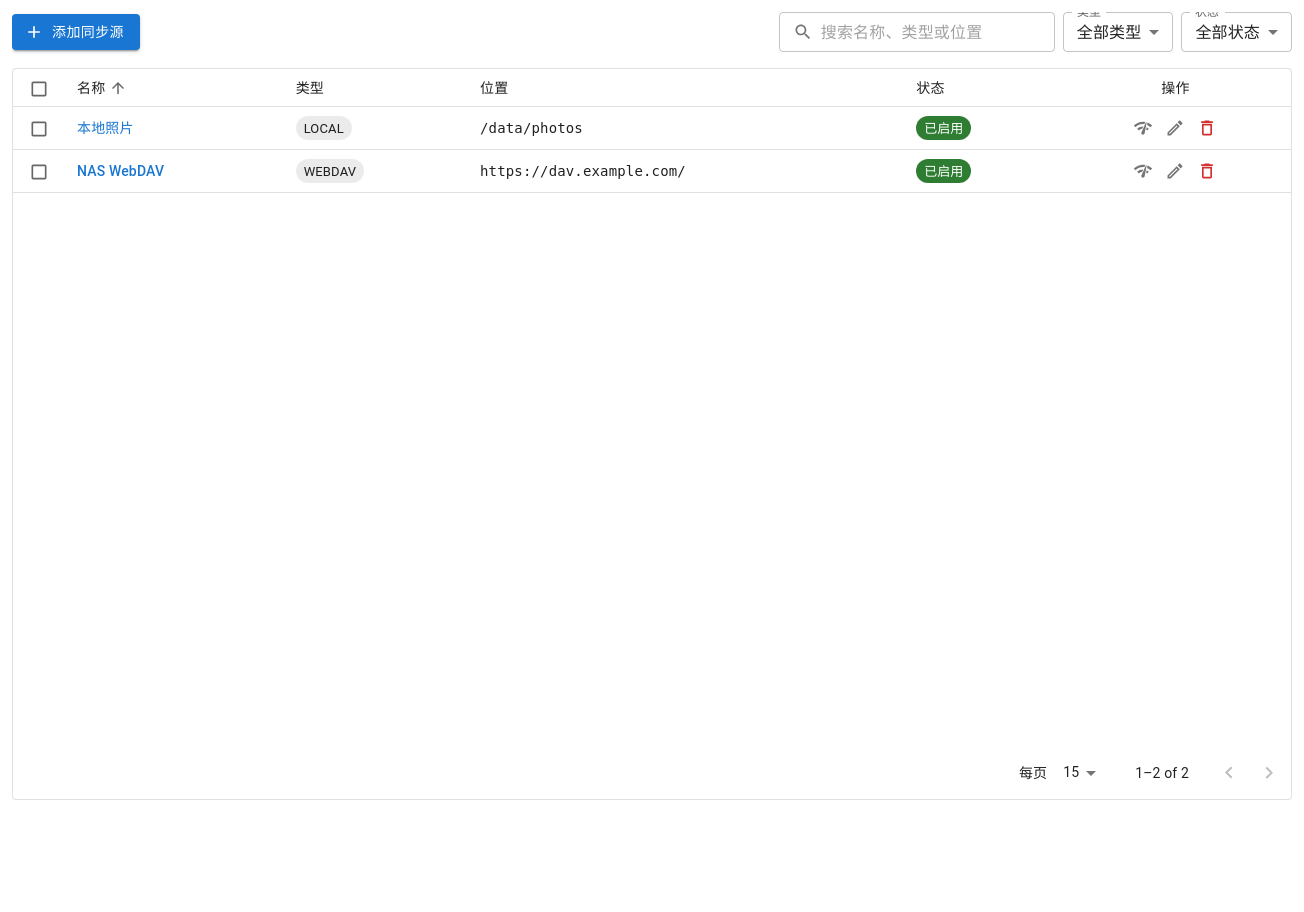
Scenario: 本地源显示 LOCAL 与原生路径，并可筛选和直达源端文件树
Expected: the text "LOCAL" is shown, x1=304 y1=120 x2=344 y2=136
Expected: the text "/data/photos" is shown, x1=464 y1=107 x2=900 y2=150
Press the mouse on the dropdown labelled "类型" at (1109, 32), box x1=1077 y1=22 x2=1141 y2=42
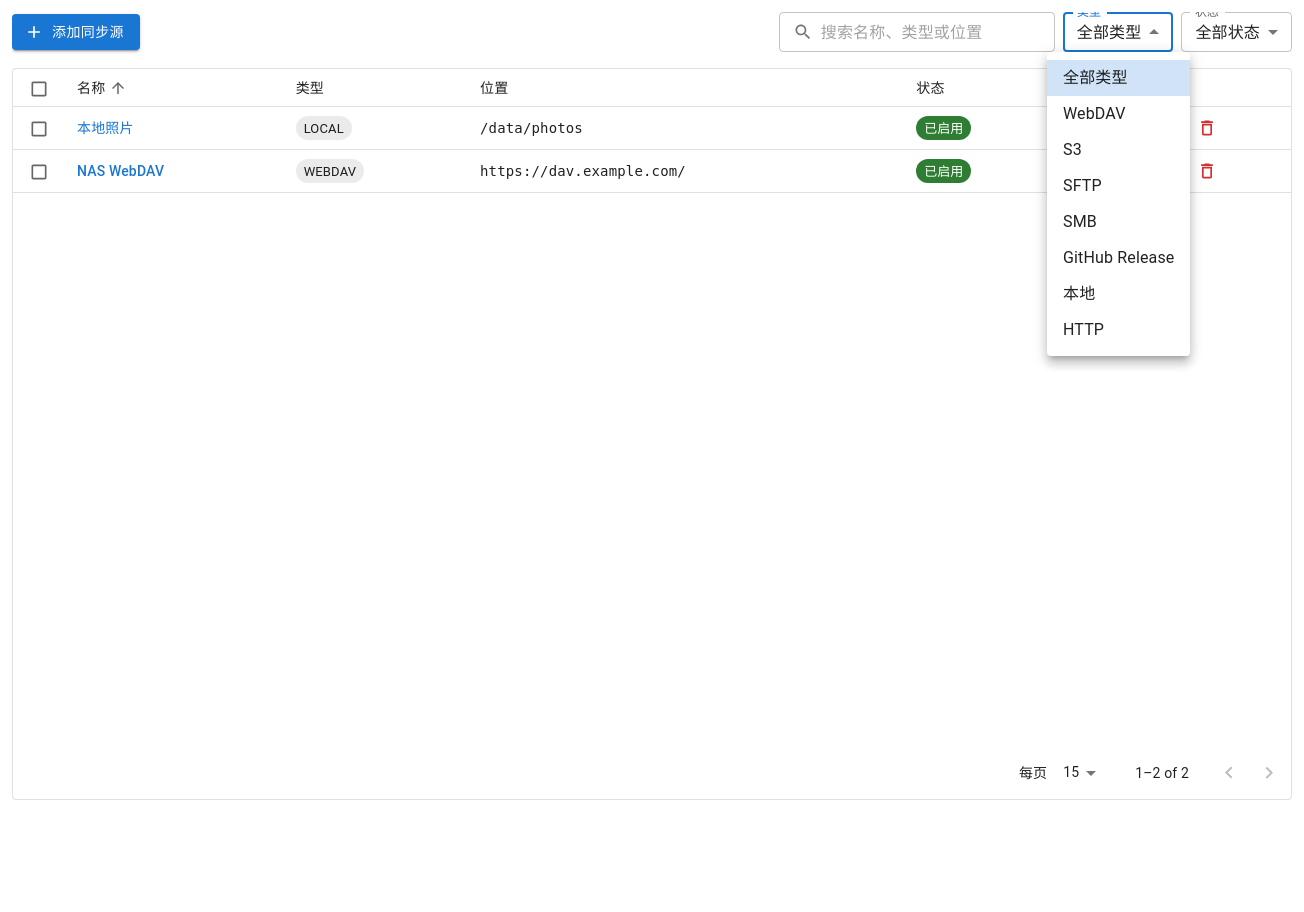
Click the option "本地". click: click(1079, 294)
box: x1=1063 y1=284 x2=1095 y2=303
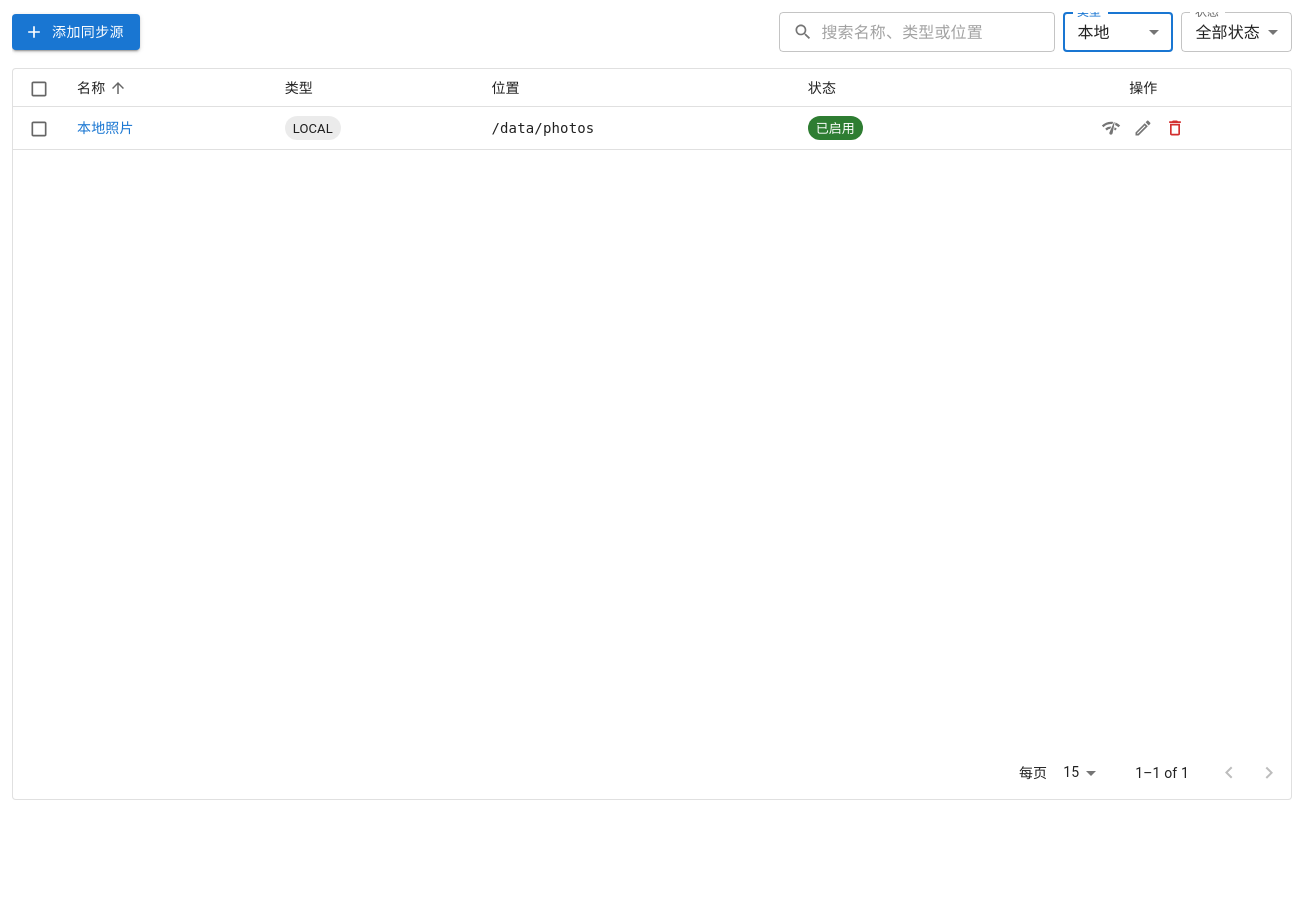
Expected: the link "本地照片" is shown, x1=77 y1=120 x2=134 y2=136
Expected: the link "NAS WebDAV" is gone
